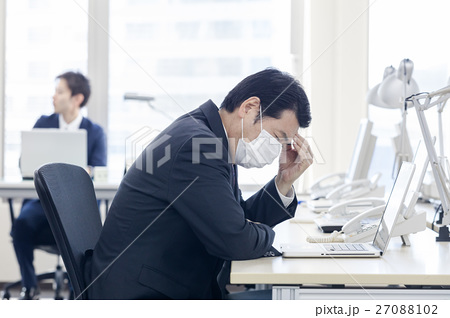mask: (233, 132, 278, 173)
